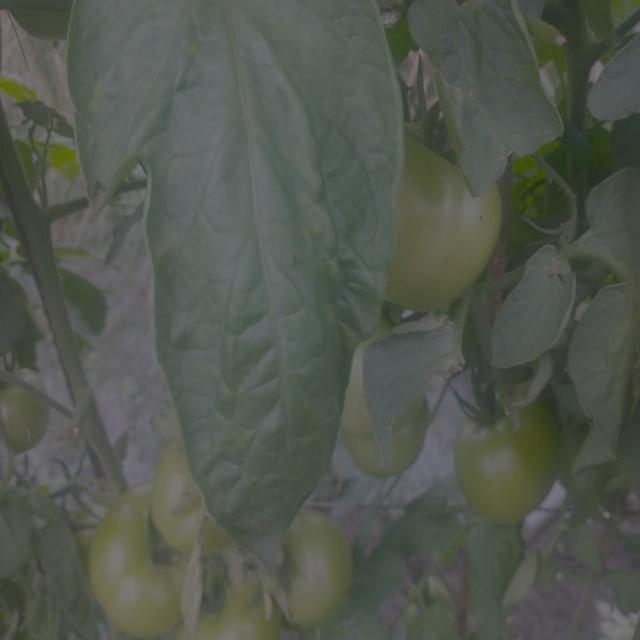tomato: (362, 122, 509, 321), (449, 389, 576, 527), (77, 500, 191, 639), (332, 339, 436, 482), (267, 507, 360, 634), (145, 448, 233, 557), (189, 558, 277, 640), (1, 374, 62, 468)
